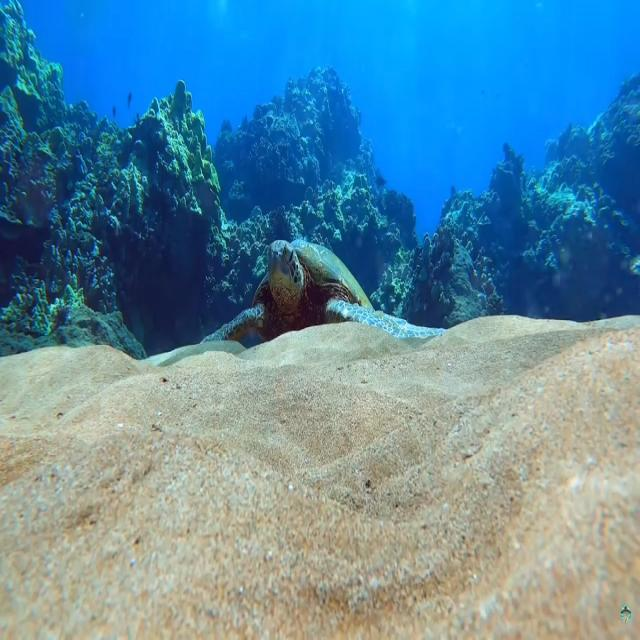Sea turtle: (200, 230, 454, 354)
